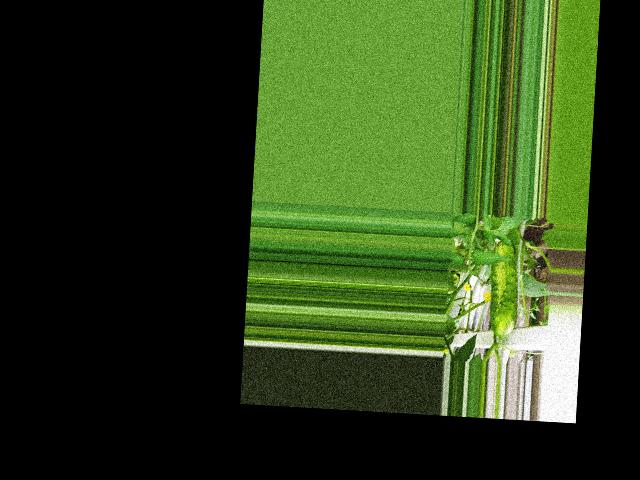cucumber: (488, 241, 521, 338)
